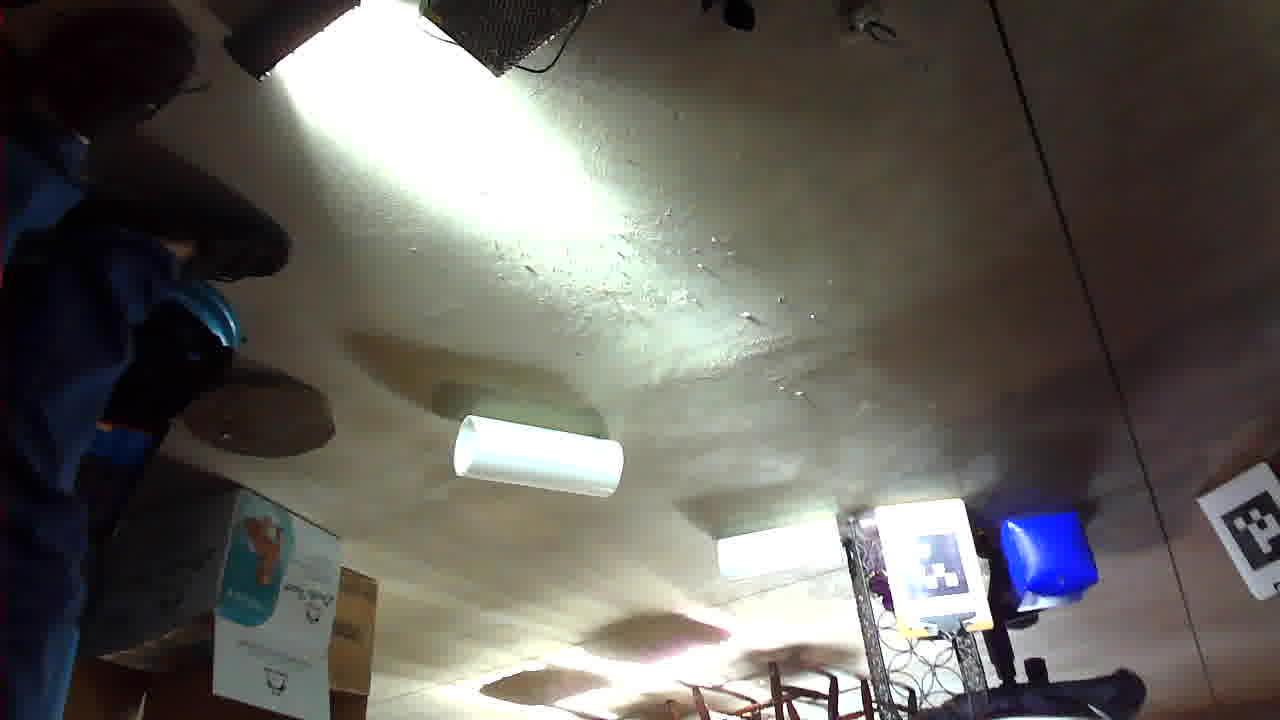coral: (657, 224, 825, 304), (434, 141, 563, 200)
